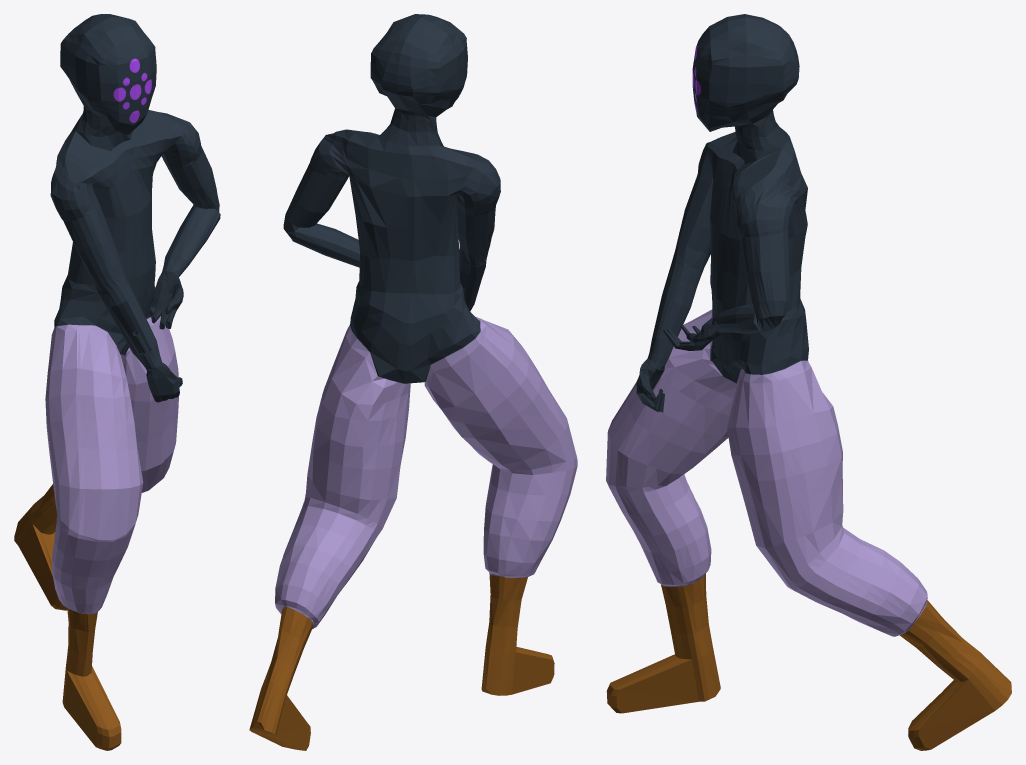
File: Oracle_Run_000011.obj
3 renders of one model, left to right at view 1: azimuth 30°, elevation 25°; view 2: azimuth 150°, elevation 25°; view 3: azimuth 270°, elevation 25°, orthographic. The views are drawn at different scales.
Parts seen in each view (by area): view 1: Cube; view 2: Cube; view 3: Cube.
Boxes of the visible parts, x1=… form: Cube: x1=14, y1=14, x2=220, y2=750; Cube: x1=249, y1=14, x2=577, y2=750; Cube: x1=606, y1=14, x2=1011, y2=750.
Size of the model in its own units: 1.29 by 3.79 by 1.93.
